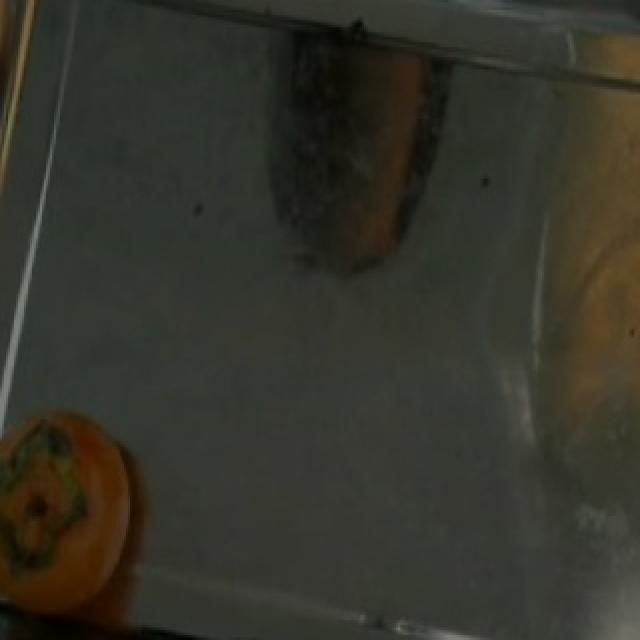Fruit: (0, 400, 154, 638)
